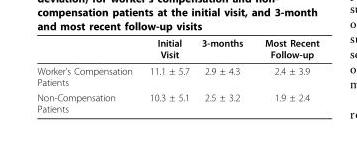table: (36, 36, 318, 113)
table column: (36, 36, 140, 113), (253, 36, 318, 113), (194, 36, 253, 113), (140, 36, 194, 113)
table column header: (36, 36, 318, 62)
table row: (36, 62, 318, 89), (36, 36, 318, 62), (36, 89, 318, 113)
